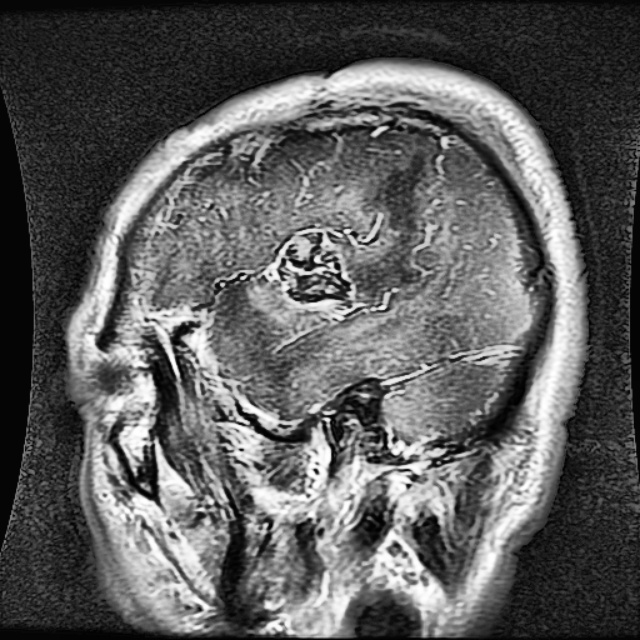Meningioma: (270, 230, 350, 308)
